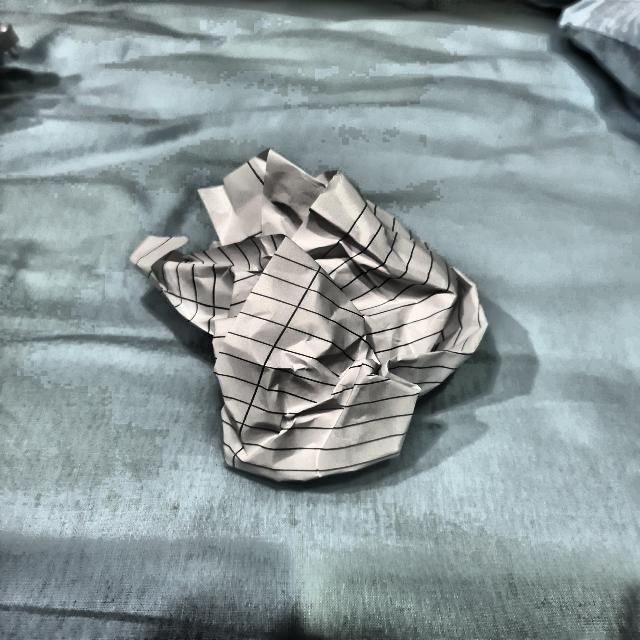Paper: (134, 150, 489, 478)
